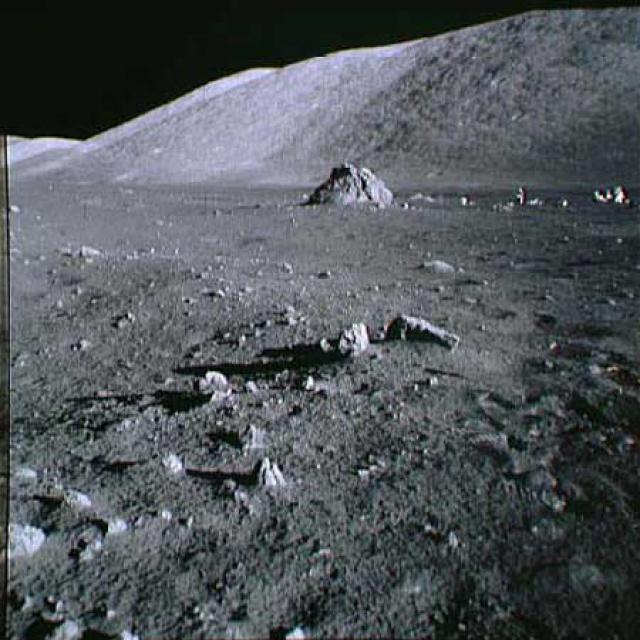artifact: (590, 179, 630, 207)
rock: (311, 155, 399, 209), (386, 309, 464, 355), (310, 323, 370, 360), (191, 364, 235, 399), (9, 519, 44, 558), (233, 418, 267, 450), (256, 455, 291, 486), (423, 252, 457, 276), (67, 241, 107, 258), (162, 447, 182, 478)
